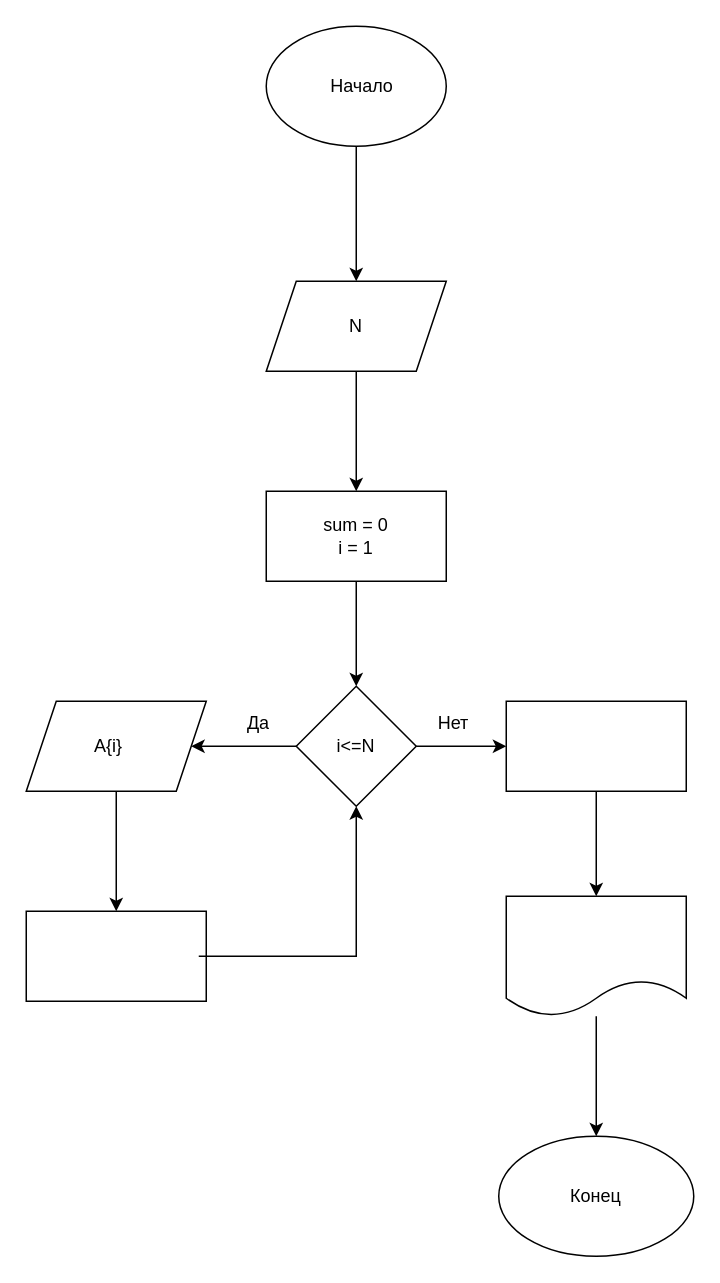
Image size: 720x1283. Some labels were removed from this diagram. Each missing label, with the centre of its shape:
avg: (595,955)
avg = sum/N: (595,745)
sum = sum + A{i} i = i+1: (115,955)
